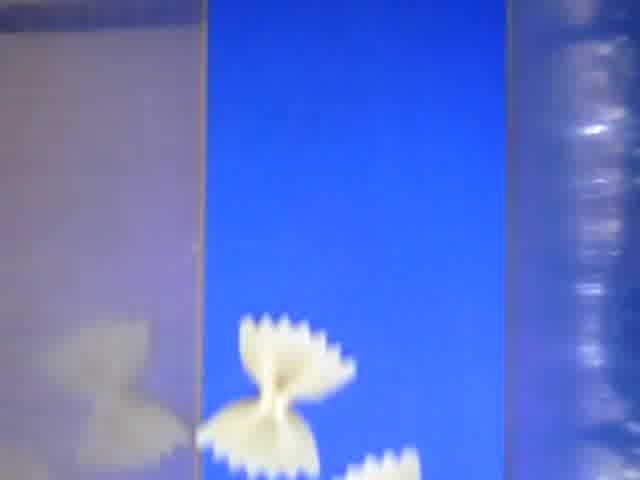farfalle: (198, 312, 358, 480), (338, 445, 423, 480)
